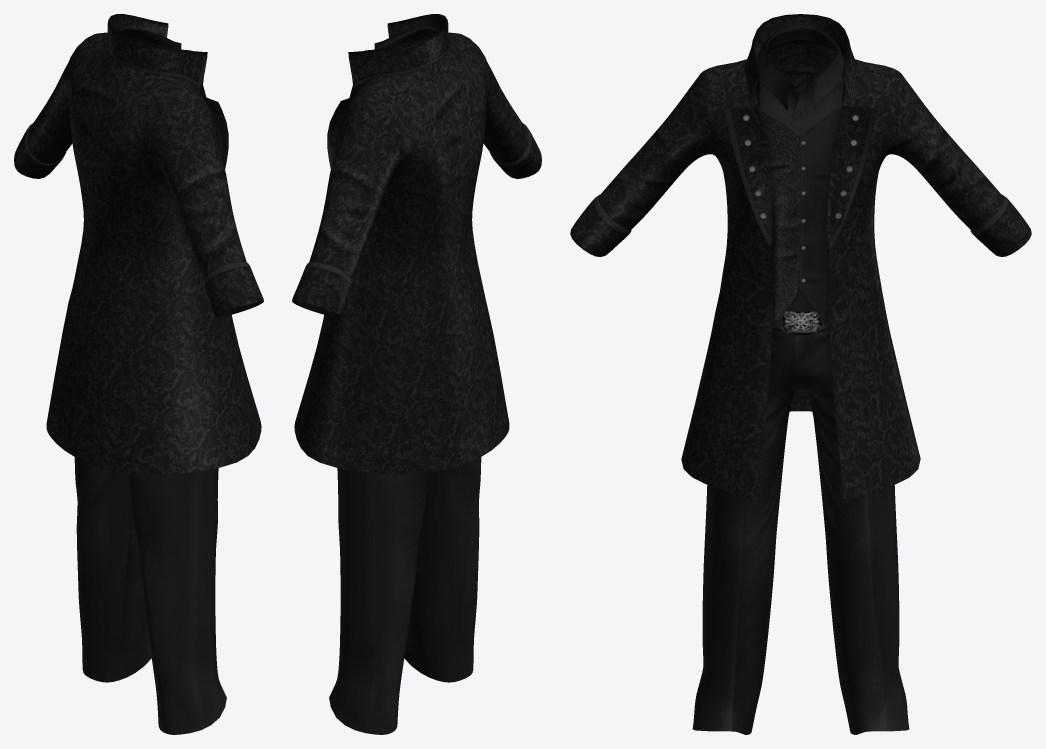
Rendered from 1_mens-magican-outfit.glb.
3 renders of one model, left to right at view 1: azimuth 30°, elevation 25°; view 2: azimuth 150°, elevation 25°; view 3: azimuth 270°, elevation 25°, orthographic. The views are drawn at different scales.
Parts seen in each view (by area): view 1: MagicianOutfit; view 2: MagicianOutfit; view 3: MagicianOutfit.
Boxes of the visible parts, x1,y1,x2,y2 form: MagicianOutfit: (14,14,263,734); MagicianOutfit: (292,14,541,734); MagicianOutfit: (570,14,1031,734).
Bounding box in the file's own units: 0.4469 × 1.64 × 0.9775.
Materials: 1 (1 with a texture image).
